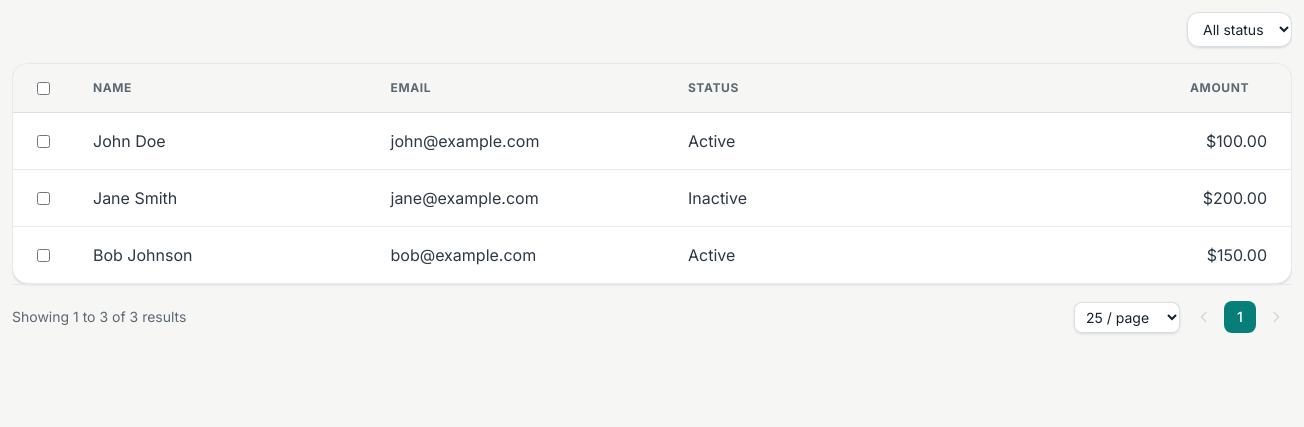
Test: DataTable › Row Selection › shows bulk actions bar when rows selected
The image size is (1304, 427).
Click the checkbox named "Select John Doe" at (44, 141), box [37,134,50,148]
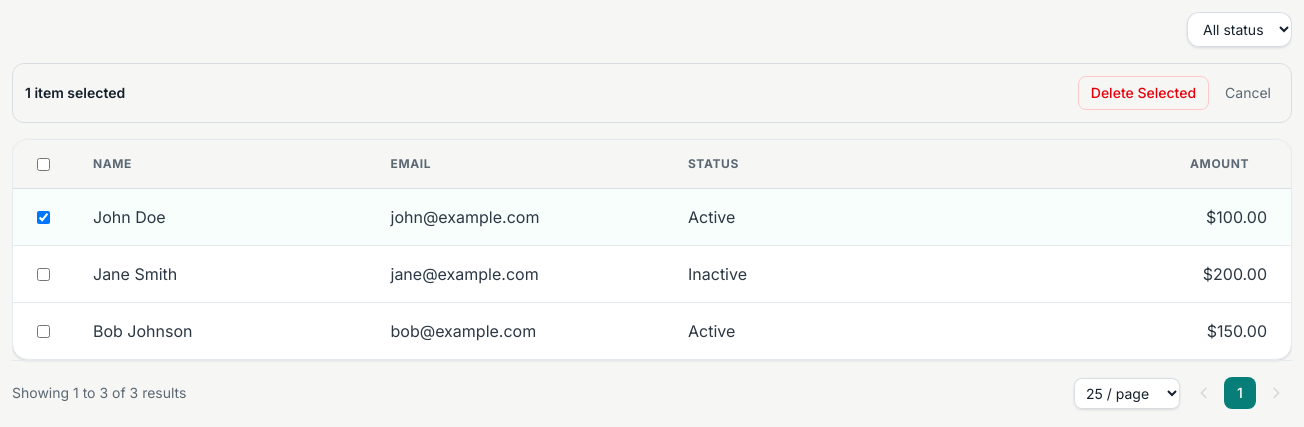
expect the text "1 item selected" is shown: met, box [25,83,125,103]
expect the button "Delete Selected" is shown: met, box [1078,76,1209,110]
